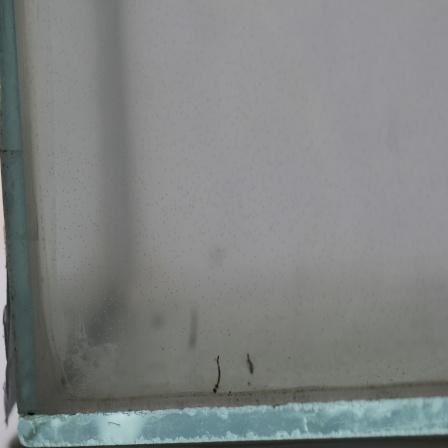Jentik-Nyamuk: (206, 354, 227, 393), (243, 351, 259, 374)
